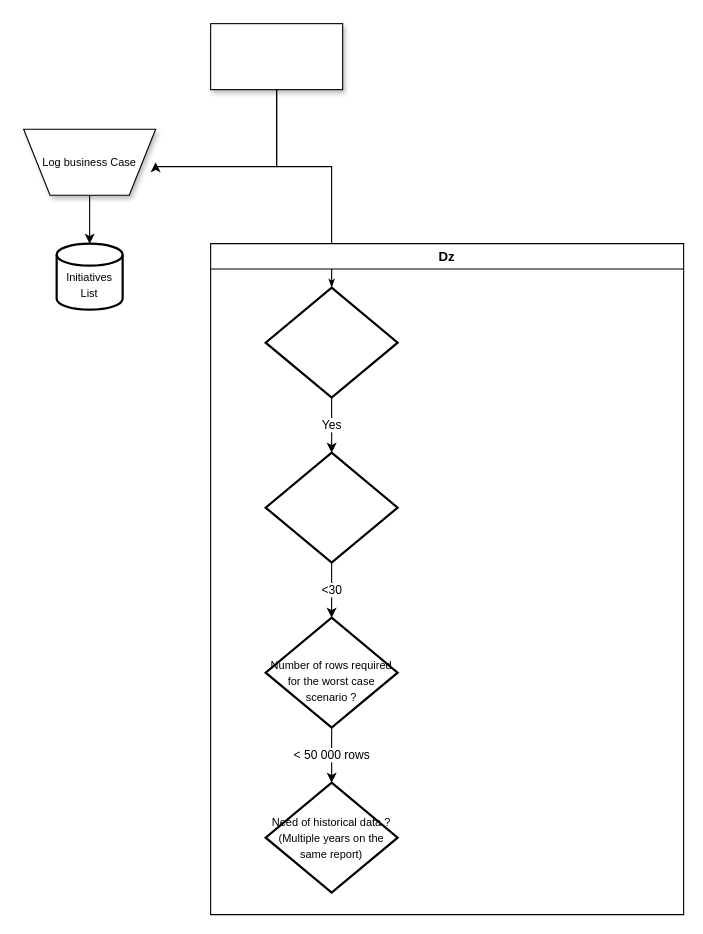
Some shapes in this 703 by 934 pixel diagram are drawn without their labels. The shapes that lost their labels are listed below. From the top down, each one's centre as x and y in pixels, then its label:
At pixel 277 57: "Get Business requirement".
At pixel 331 342: "Is all data available in Codex ?".
At pixel 331 507: "Number of data base tables ?".
